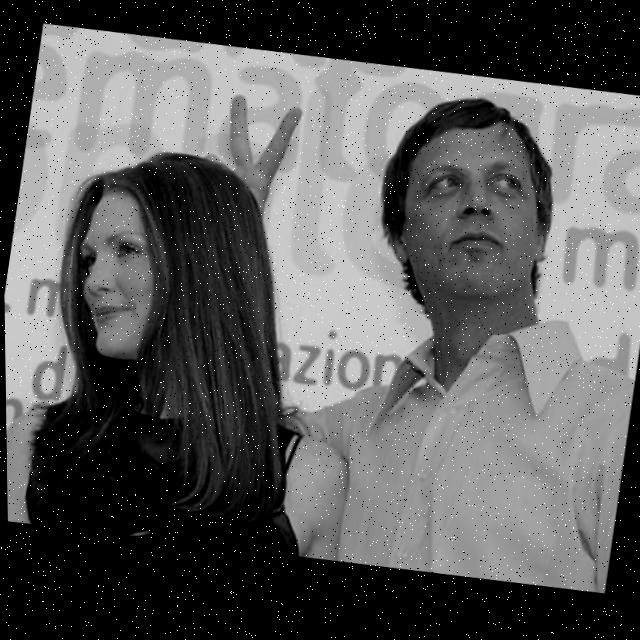face: (352, 69, 593, 321), (40, 164, 230, 387)
